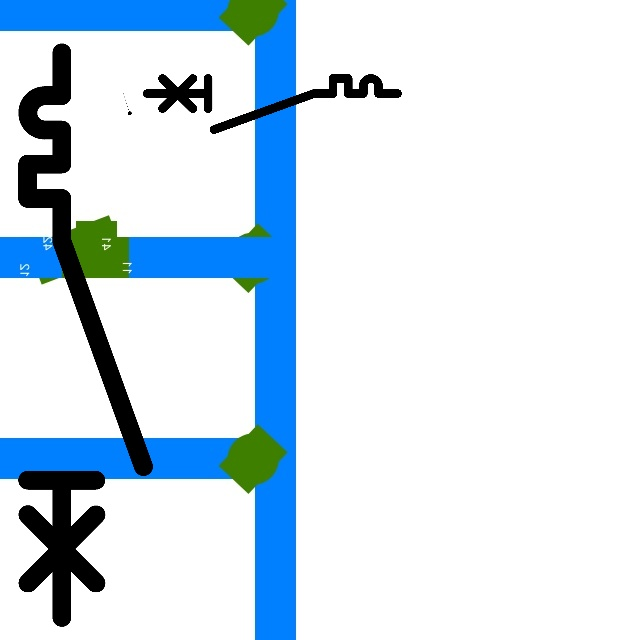interruptor_termomagnetico: (13, 38, 158, 632), (140, 72, 403, 136)
